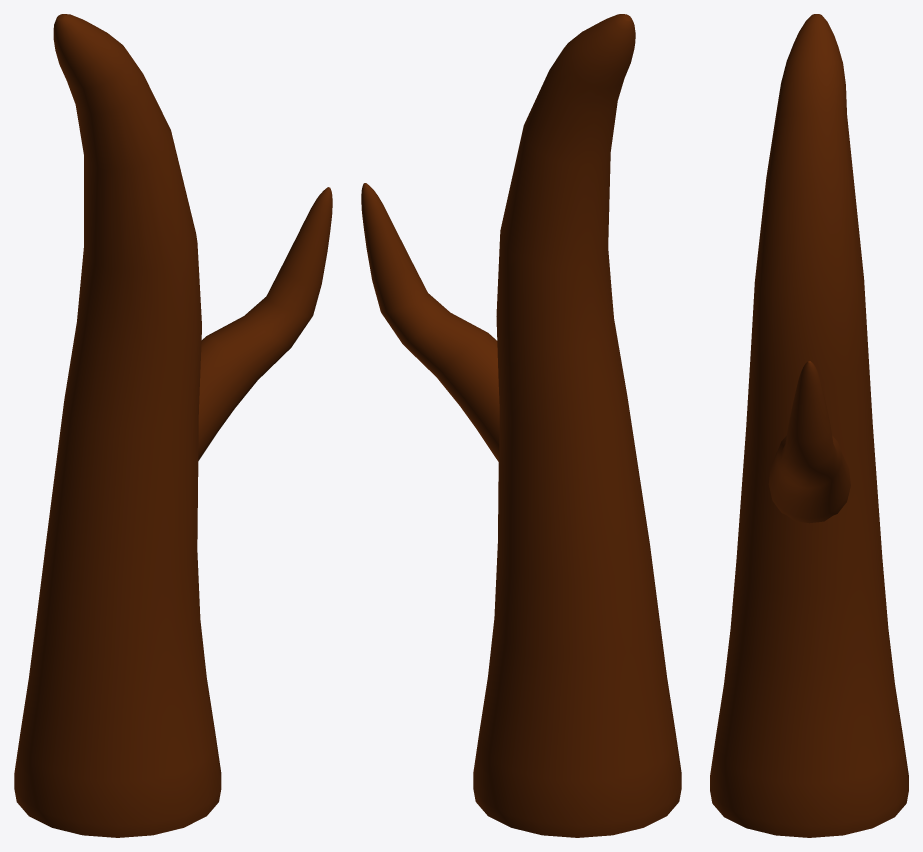
File: Arbre_mort_01.fbx
3 views of the same model, side by side, from view 1: azimuth 30°, elevation 25°; view 2: azimuth 150°, elevation 25°; view 3: azimuth 270°, elevation 25° (orthographic). The views are drawn at different scales.
Parts seen in each view (by area): view 1: Tronc_low; view 2: Tronc_low; view 3: Tronc_low.
Boxes of the visible parts, x1,y1,x2,y2 form: Tronc_low: [14, 14, 332, 837]; Tronc_low: [361, 14, 681, 837]; Tronc_low: [710, 14, 908, 837].
Size of the model in its own units: 42.65 by 106 by 25.09.
